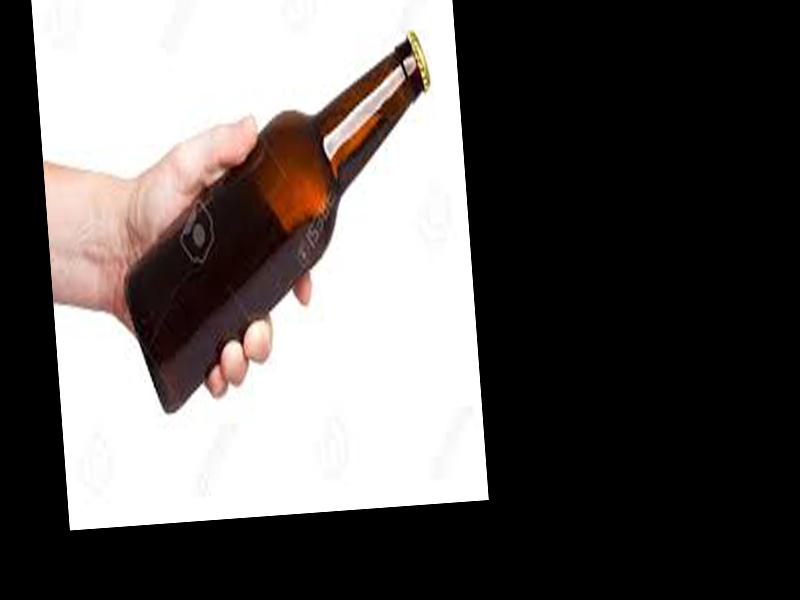Beer: (108, 28, 451, 412)
